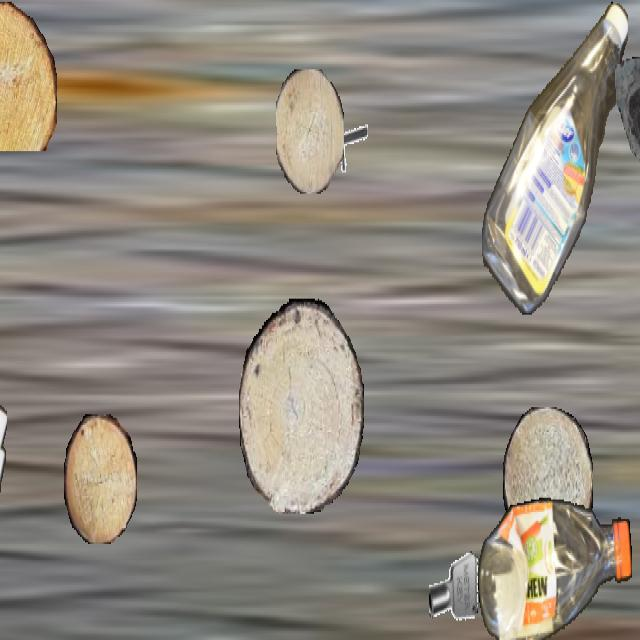glass: (615, 55, 640, 201)
metal: (429, 544, 479, 633), (330, 108, 368, 176)
plastic: (482, 2, 628, 314), (478, 496, 632, 638), (0, 390, 6, 638)
wood: (239, 299, 363, 512), (503, 407, 593, 557), (64, 414, 136, 542), (276, 69, 344, 194), (0, 2, 56, 151)
